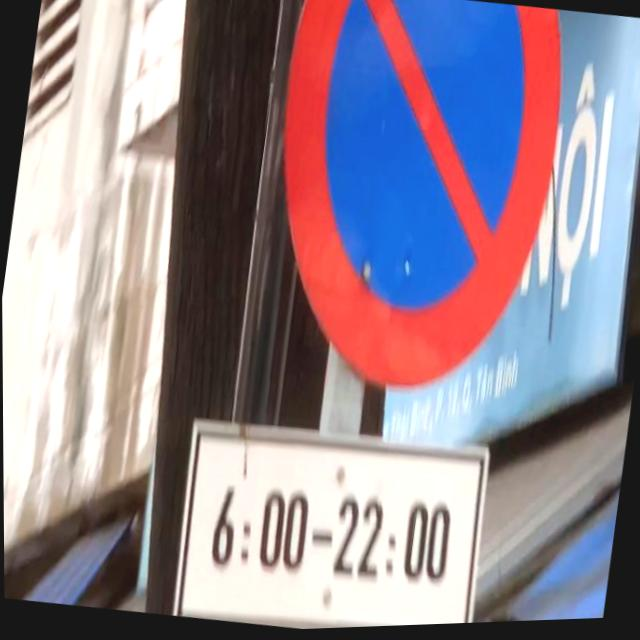Cam do xe: (245, 0, 574, 413)
